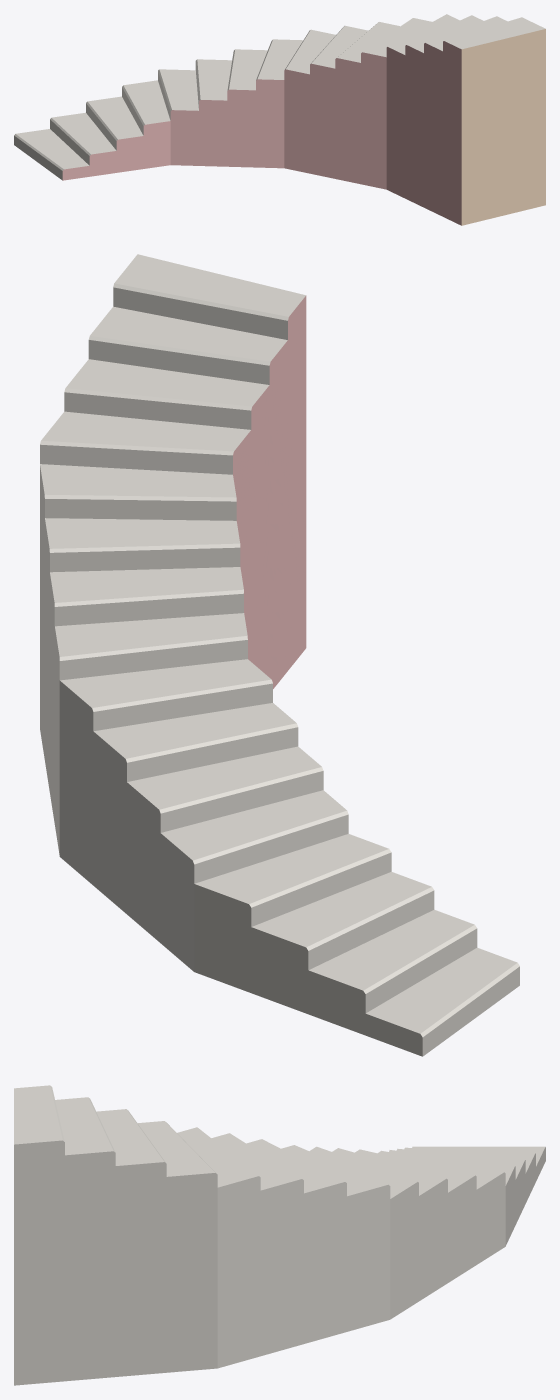
The model's file is Tiered_Walkway_Steps_Curve_Tall_4x4.glb.
The picture shows the model from 3 angles, top to bottom: view 1: azimuth 30°, elevation 25°; view 2: azimuth 150°, elevation 25°; view 3: azimuth 270°, elevation 25°; orthographic projection. The views are drawn at different scales.
Parts seen in each view (by area): view 1: Tiered_Walkway_Steps_Curve_Tall_4x4; view 2: Tiered_Walkway_Steps_Curve_Tall_4x4; view 3: Tiered_Walkway_Steps_Curve_Tall_4x4.
Part boxes in pixels (x1,y1,x2,y2): Tiered_Walkway_Steps_Curve_Tall_4x4: [14, 14, 545, 225]; Tiered_Walkway_Steps_Curve_Tall_4x4: [40, 254, 519, 1056]; Tiered_Walkway_Steps_Curve_Tall_4x4: [14, 1085, 545, 1385].
Size of the model in its own units: 400 by 200 by 400.
